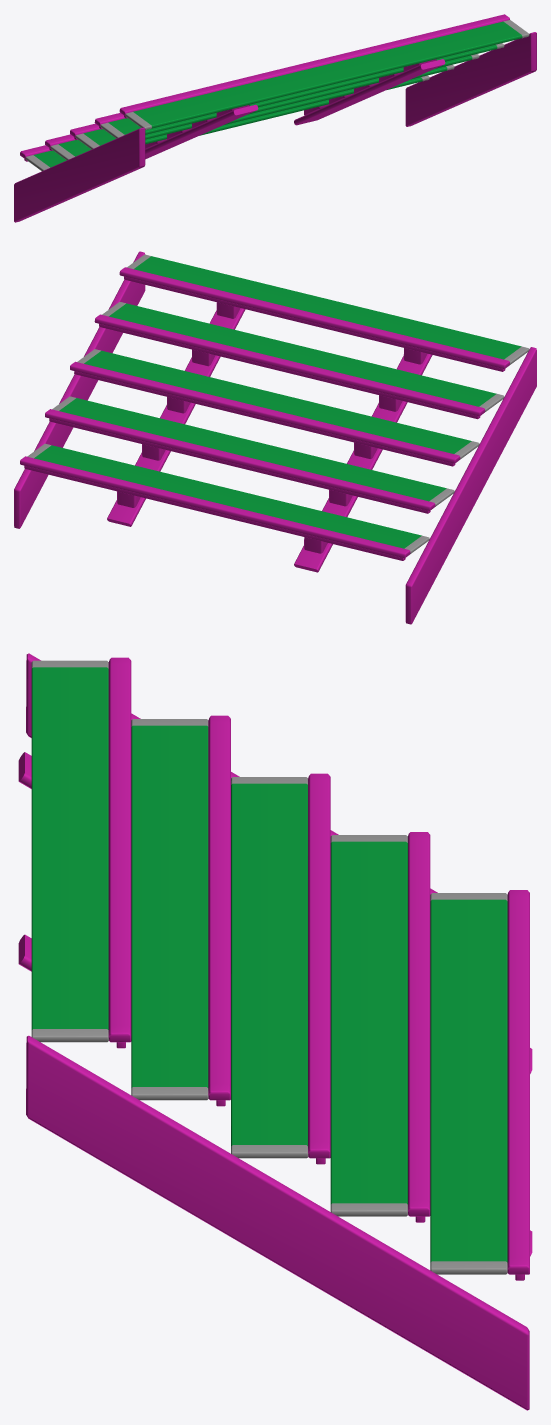
File: StairCorridor_01.FBX
The picture shows the model from 3 angles, top to bottom: view 1: azimuth 30°, elevation 25°; view 2: azimuth 150°, elevation 25°; view 3: azimuth 270°, elevation 25°; orthographic projection. The views are drawn at different scales.
Parts seen in each view (by area): view 1: SM_SideFloor_006, Box050, Box004, SM_SideFloor_005, SM_SideFloor_004, SM_SideFloor_003, SM_SideFloor_002; view 2: SM_SideFloor_006, SM_SideFloor_002, SM_SideFloor_003, SM_SideFloor_004, SM_SideFloor_005, Box050, Box004; view 3: Box050, SM_SideFloor_006, SM_SideFloor_003, SM_SideFloor_004, SM_SideFloor_005, SM_SideFloor_002, Box004.
Boxes of the visible parts, x1,y1,x2,y2 form: SM_SideFloor_006: (119,14,529,129); Box050: (14,32,536,222); Box004: (145,59,445,159); SM_SideFloor_005: (94,43,504,138); SM_SideFloor_004: (70,54,479,149); SM_SideFloor_003: (45,64,454,160); SM_SideFloor_002: (20,75,429,170); SM_SideFloor_006: (119,254,529,371); SM_SideFloor_002: (20,443,429,560); SM_SideFloor_003: (45,396,454,513); SM_SideFloor_004: (70,349,479,466); SM_SideFloor_005: (94,302,504,419); Box050: (14,251,536,624); Box004: (107,308,432,572); Box050: (26,653,529,1410); SM_SideFloor_006: (31,657,131,1048); SM_SideFloor_003: (330,832,430,1222); SM_SideFloor_004: (231,773,330,1164); SM_SideFloor_005: (131,715,230,1106); SM_SideFloor_002: (430,890,529,1280); Box004: (18,752,532,1256).
Size of the model in its own units: 258 by 115 by 144.
